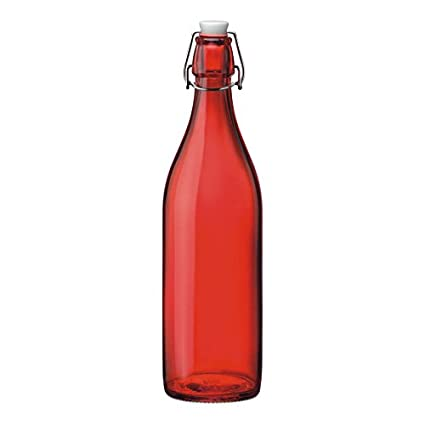glass_bottle: (157, 15, 269, 407)
